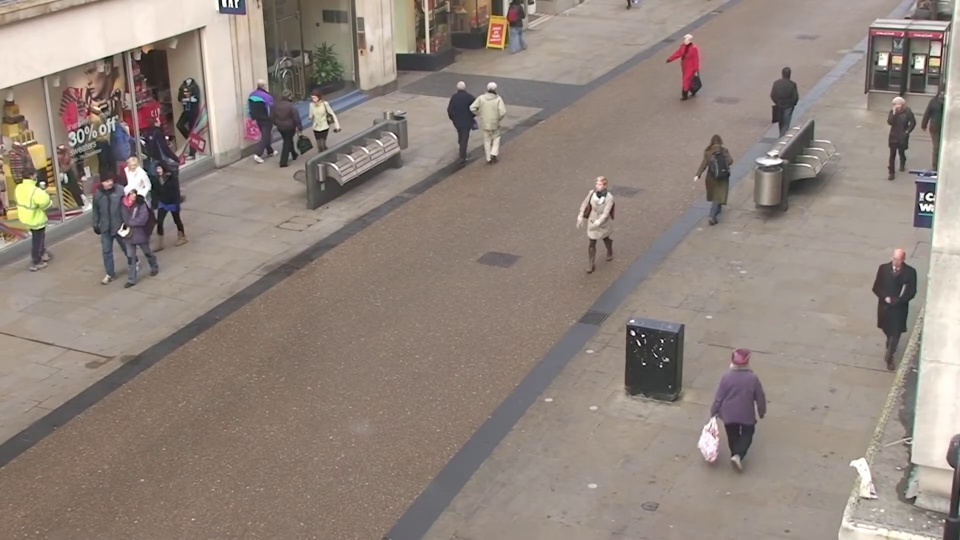pedestrian: (717, 331, 771, 484), (864, 245, 918, 376), (17, 159, 70, 265), (106, 182, 154, 292), (82, 168, 131, 275), (109, 155, 154, 258), (137, 159, 181, 264), (579, 171, 614, 283), (873, 93, 914, 186), (150, 111, 188, 202), (701, 124, 735, 222), (298, 92, 330, 179), (276, 82, 308, 167), (771, 61, 802, 143), (252, 72, 283, 154), (449, 74, 479, 158), (481, 77, 511, 161), (670, 31, 695, 104)
